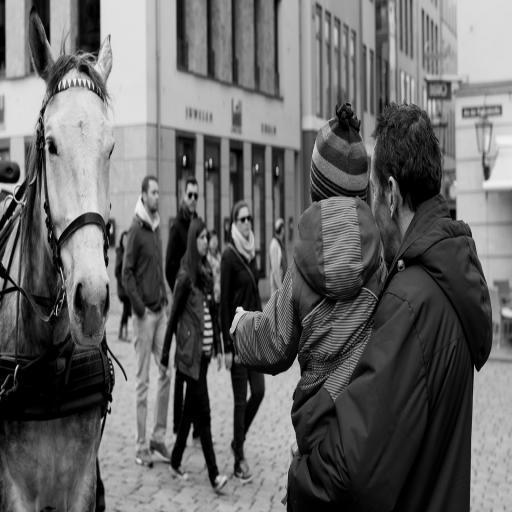horse: (0, 6, 116, 512)
